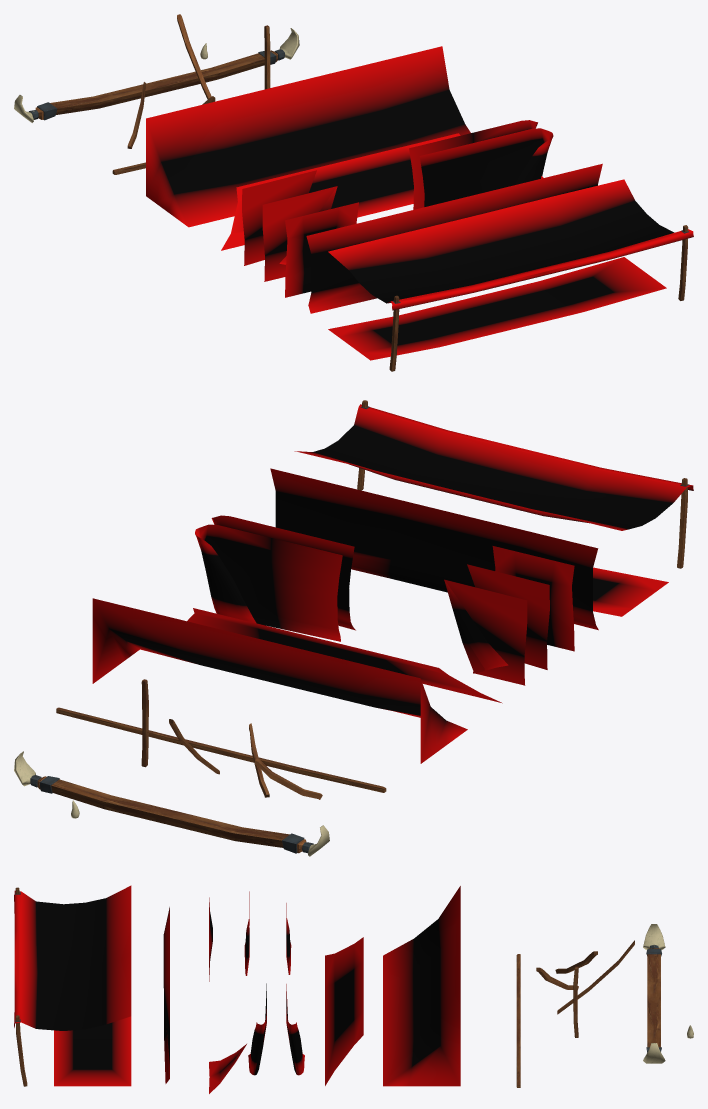
Rendered from Building_blocks_MV_4.fbx.
3 renders of one model, top to bottom at view 1: azimuth 30°, elevation 25°; view 2: azimuth 150°, elevation 25°; view 3: azimuth 270°, elevation 25°, orthographic. The views are drawn at different scales.
Parts seen in each view (by area): view 1: Dakzeil_2, polySurface5, Dakzeil_3_recht, Tentzeil_4, Tentzeil_2A, Dakzeil_1, Dak_nok, Tentzeil_1, Tentzeil_3A, Tentzeil_3B, Tentzeil_2B; view 2: polySurface5, Tentzeil_4, Dakzeil_2, Tentzeil_2B, Tentzeil_3B, Dak_nok, Dakzeil_1, Tentzeil_1, Tentzeil_3A, Tentzeil_2A, Dakzeil_3_recht, Balk_2; view 3: polySurface5, Dakzeil_2, Dakzeil_3_recht, Dakzeil_1, Dak_nok, Tentzeil_4, Tentzeil_2B, Balk_2, Tentzeil_2A, Dakzeil_4, Balk_4, Balk_1.
Part boxes in pixels (x1=…): Dakzeil_2: x1=146, y1=46, x2=470, y2=227; polySurface5: x1=328, y1=179, x2=693, y2=371; Dakzeil_3_recht: x1=328, y1=257, x2=666, y2=360; Tentzeil_4: x1=306, y1=163, x2=602, y2=313; Tentzeil_2A: x1=419, y1=128, x2=553, y2=206; Dakzeil_1: x1=221, y1=133, x2=460, y2=250; Dak_nok: x1=14, y1=28, x2=299, y2=122; Tentzeil_1: x1=285, y1=202, x2=358, y2=297; Tentzeil_3A: x1=262, y1=186, x2=337, y2=281; Tentzeil_3B: x1=242, y1=170, x2=316, y2=265; Tentzeil_2B: x1=409, y1=120, x2=537, y2=209; polySurface5: x1=294, y1=400, x2=693, y2=568; Tentzeil_4: x1=270, y1=468, x2=598, y2=630; Dakzeil_2: x1=92, y1=598, x2=467, y2=763; Tentzeil_2B: x1=195, y1=524, x2=342, y2=641; Tentzeil_3B: x1=444, y1=579, x2=527, y2=685; Dak_nok: x1=14, y1=751, x2=329, y2=856; Dakzeil_1: x1=187, y1=608, x2=502, y2=703; Tentzeil_1: x1=492, y1=546, x2=574, y2=651; Tentzeil_3A: x1=467, y1=564, x2=549, y2=669; Tentzeil_2A: x1=211, y1=515, x2=355, y2=630; Dakzeil_3_recht: x1=593, y1=567, x2=668, y2=616; Balk_2: x1=56, y1=707, x2=386, y2=792; polySurface5: x1=14, y1=885, x2=131, y2=1086; Dakzeil_2: x1=383, y1=886, x2=460, y2=1086; Dakzeil_3_recht: x1=54, y1=1016, x2=131, y2=1086; Dakzeil_1: x1=325, y1=937, x2=363, y2=1085; Dak_nok: x1=643, y1=924, x2=665, y2=1063; Tentzeil_4: x1=163, y1=907, x2=169, y2=1083; Tentzeil_2B: x1=286, y1=984, x2=304, y2=1075; Balk_2: x1=516, y1=954, x2=520, y2=1087; Tentzeil_2A: x1=248, y1=983, x2=266, y2=1075; Dakzeil_4: x1=209, y1=1044, x2=246, y2=1093; Balk_4: x1=557, y1=940, x2=634, y2=1014; Balk_1: x1=573, y1=966, x2=578, y2=1037.
Size of the model in its own units: 909 by 214 by 1756.
